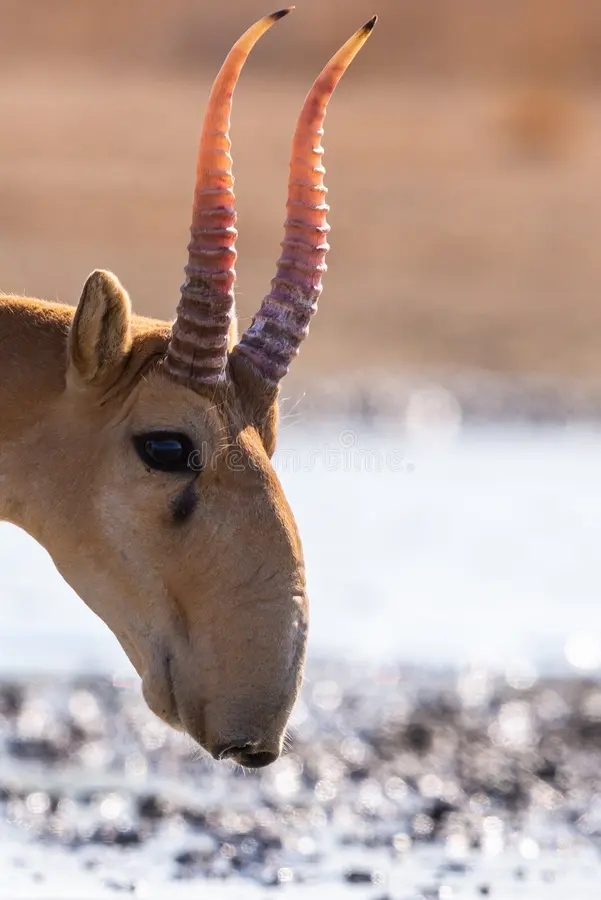saiga: (3, 7, 381, 778)
